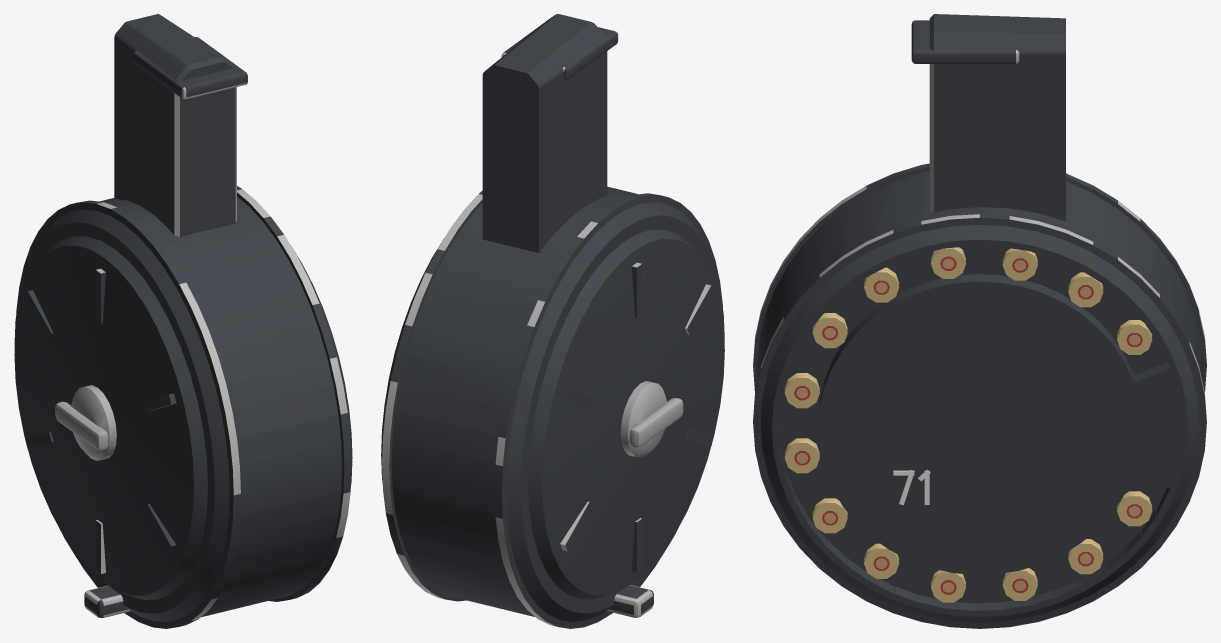
The model's file is ppsh_drum.glb.
3 renders of one model, left to right at view 1: azimuth 30°, elevation 25°; view 2: azimuth 150°, elevation 25°; view 3: azimuth 270°, elevation 25°, orthographic. The views are drawn at different scales.
Visible parts, largest first — view 1: static_mag; view 2: static_mag; view 3: static_mag, round_36, round_41, round_5, round_30, round_46, round_71, round_10, round_66, round_25, round_51, round_61 (+3 smaller).
Boxes of the visible parts, x1=… form: static_mag: x1=14, y1=14, x2=352, y2=628; static_mag: x1=381, y1=14, x2=724, y2=628; static_mag: x1=753, y1=14, x2=1206, y2=628; round_36: x1=784, y1=438, x2=819, y2=473; round_41: x1=784, y1=373, x2=819, y2=408; round_5: x1=1117, y1=491, x2=1152, y2=526; round_30: x1=812, y1=498, x2=847, y2=533; round_46: x1=812, y1=313, x2=847, y2=348; round_71: x1=1117, y1=320, x2=1152, y2=354; round_10: x1=1068, y1=539, x2=1103, y2=574; round_66: x1=1068, y1=272, x2=1103, y2=307; round_25: x1=864, y1=543, x2=899, y2=578; round_51: x1=864, y1=267, x2=899, y2=302; round_61: x1=1002, y1=248, x2=1037, y2=280.
Size of the model in its own units: 0.0597 by 0.1772 by 0.1264.
